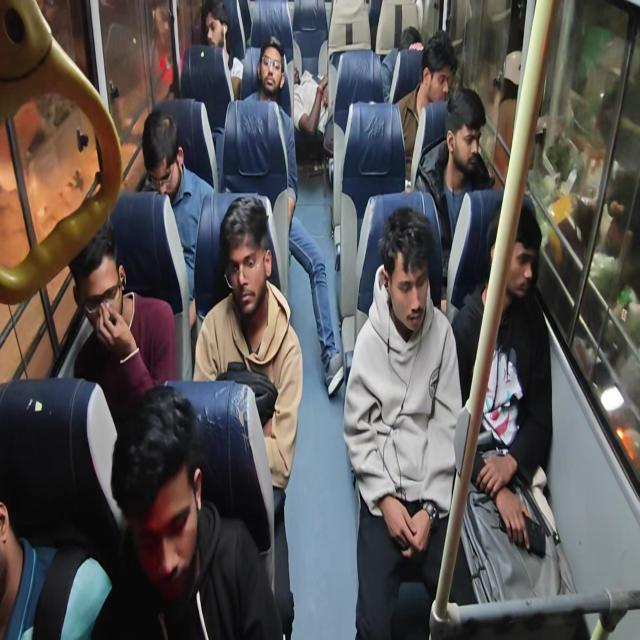person: (102, 380, 202, 599), (376, 199, 437, 343), (214, 196, 272, 323), (480, 190, 542, 307), (68, 228, 129, 343), (0, 402, 35, 590), (442, 86, 488, 195), (142, 114, 190, 212), (193, 0, 238, 62), (416, 30, 450, 104), (258, 31, 286, 96), (398, 27, 432, 55)
